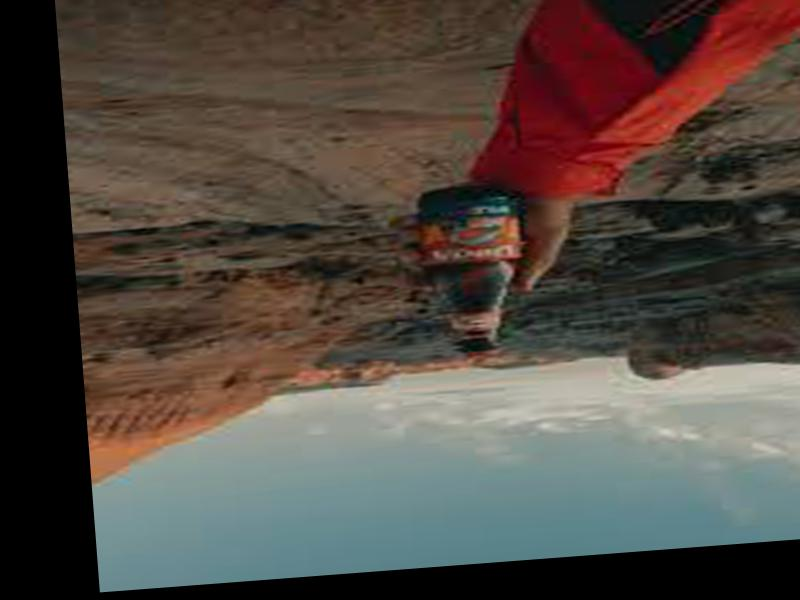Beer: (411, 183, 540, 357)
